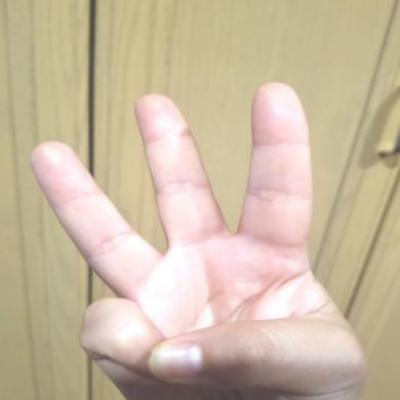hand: (21, 78, 380, 399)
